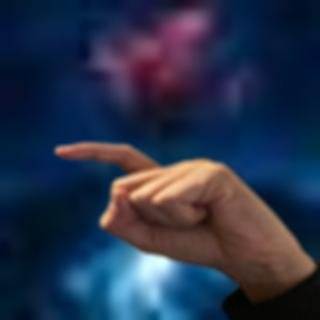WHY: (47, 130, 305, 287)
